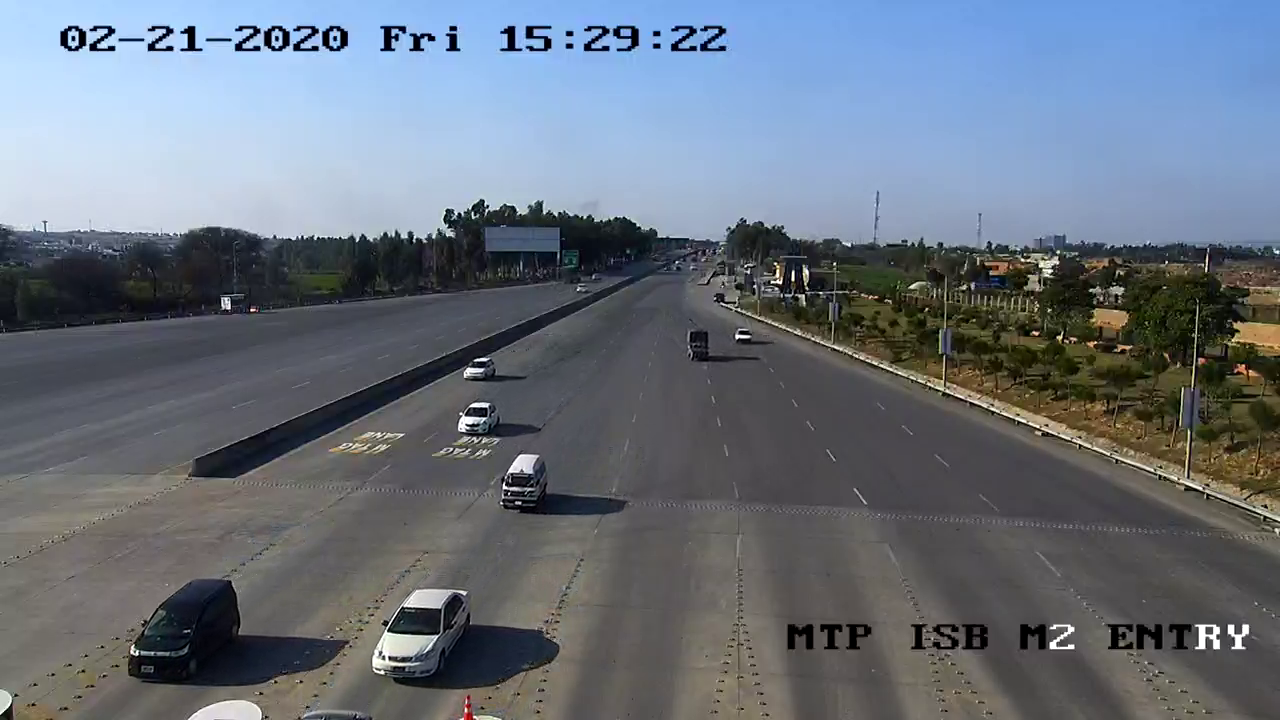f1: (113, 571, 253, 697), (363, 577, 485, 694), (486, 444, 555, 517)
